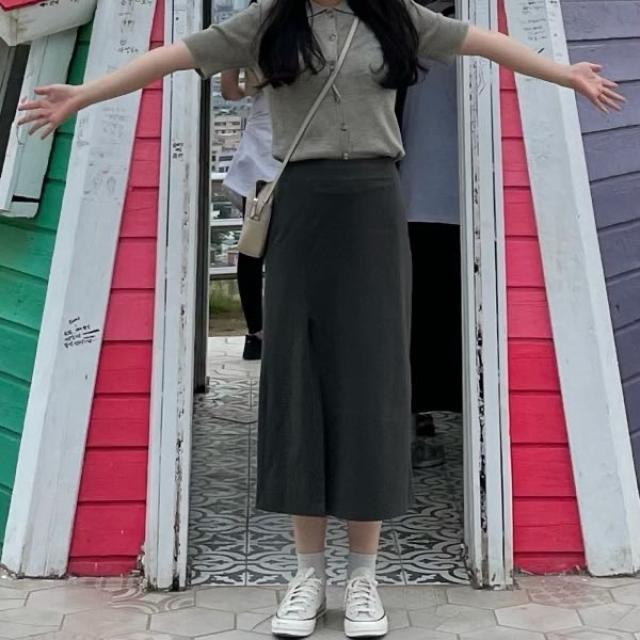shortsleeve: (180, 0, 470, 155)
skirt: (255, 150, 409, 517)
